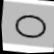no answer: (11, 11, 51, 43)
